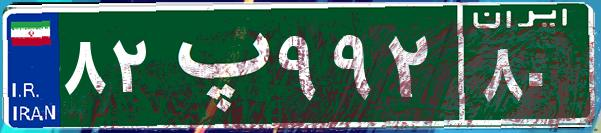0: (525, 38, 570, 115)
2: (385, 28, 445, 110), (110, 28, 158, 105)
8: (57, 26, 110, 107), (475, 38, 525, 113)
9: (273, 28, 330, 110), (330, 28, 385, 110)
پ: (158, 15, 273, 115)
